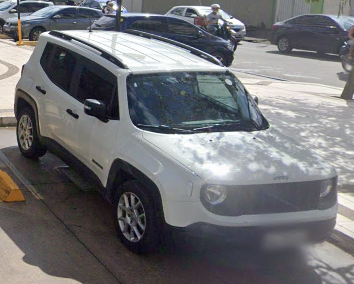car: (16, 24, 341, 269)
